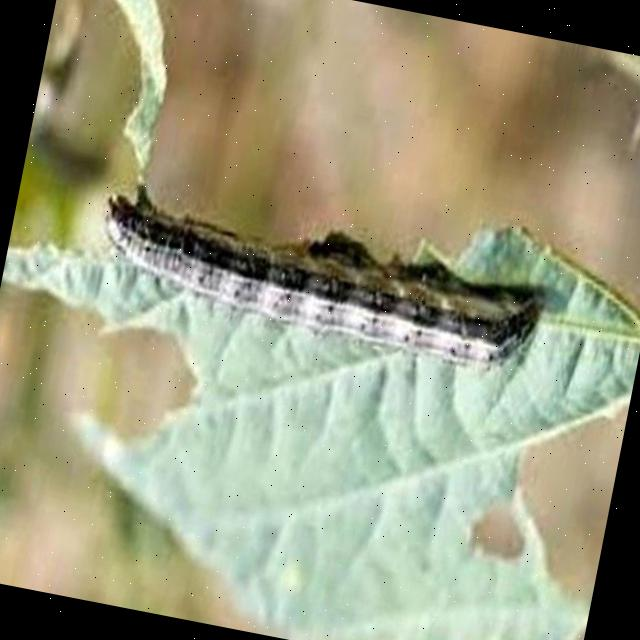worm: (88, 181, 554, 383)
